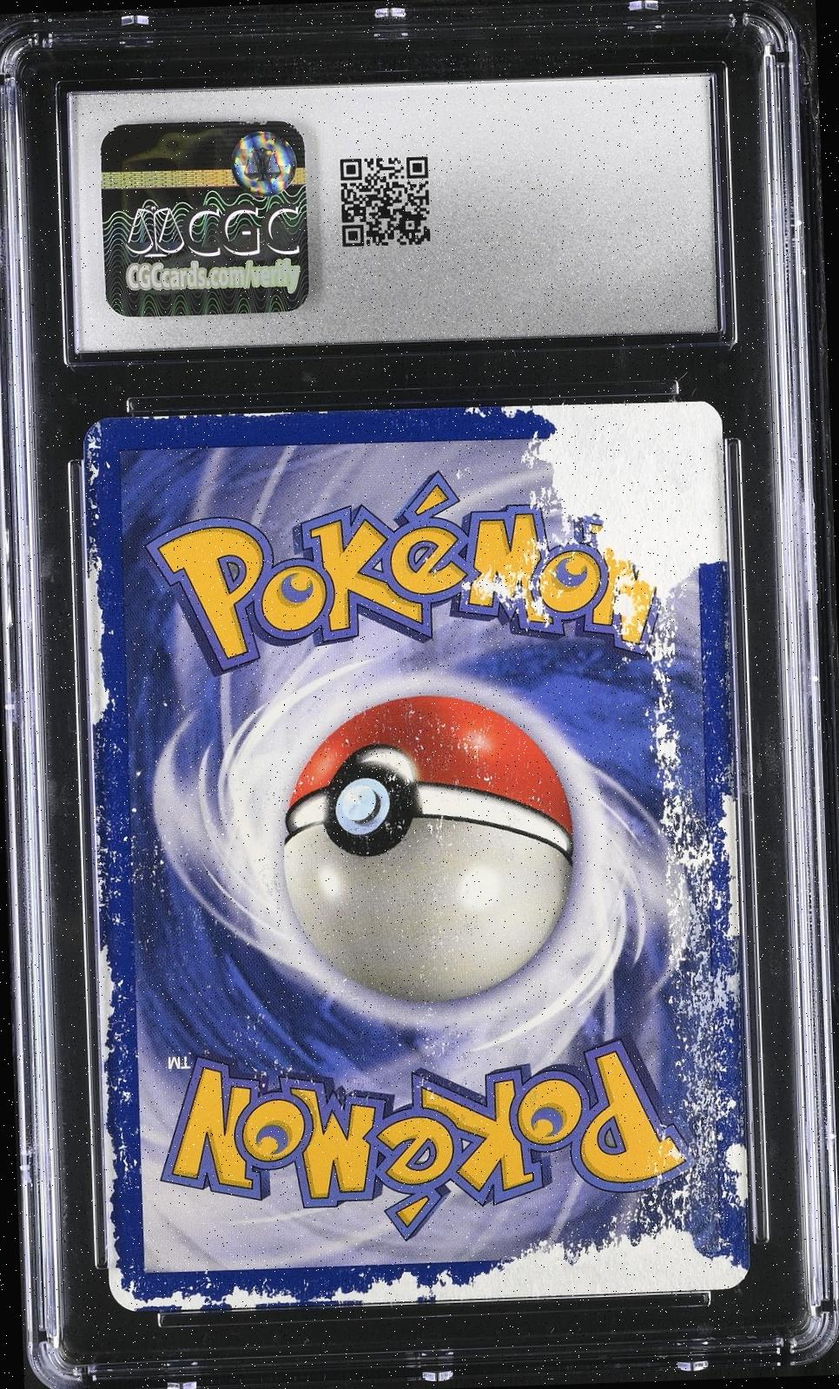card-2UtV: (83, 401, 750, 1312)
